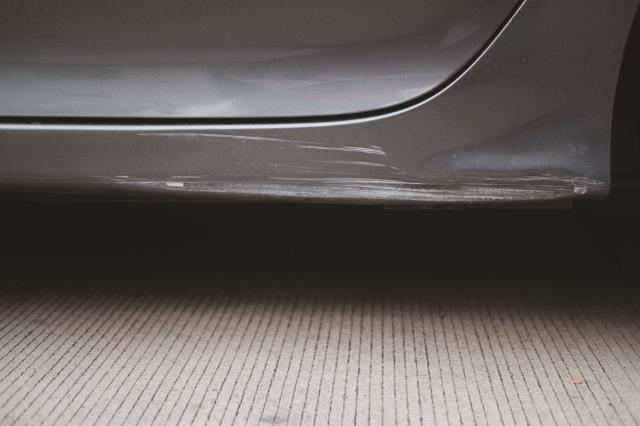dent: (424, 91, 614, 177)
scratch: (103, 129, 601, 203)
